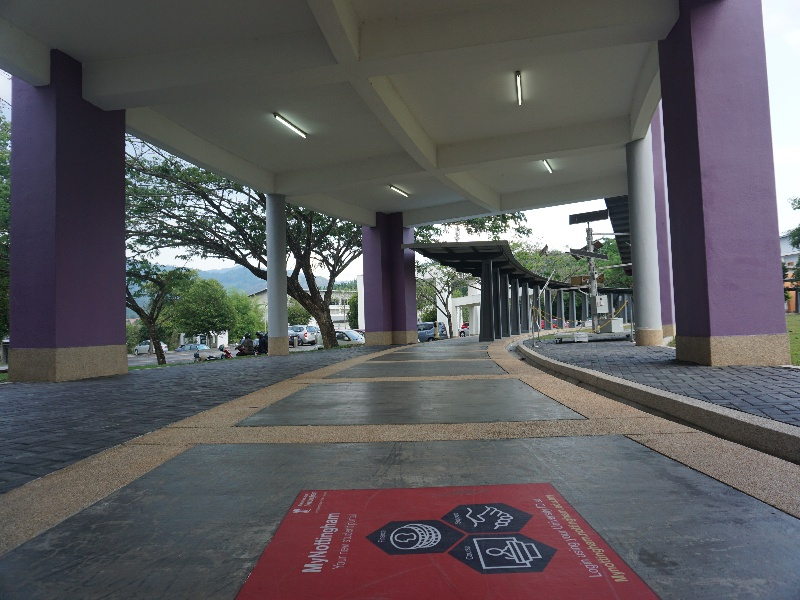Block D Pillar 4: (10, 13, 800, 497)
pillar: (650, 8, 790, 374), (19, 45, 132, 378)
